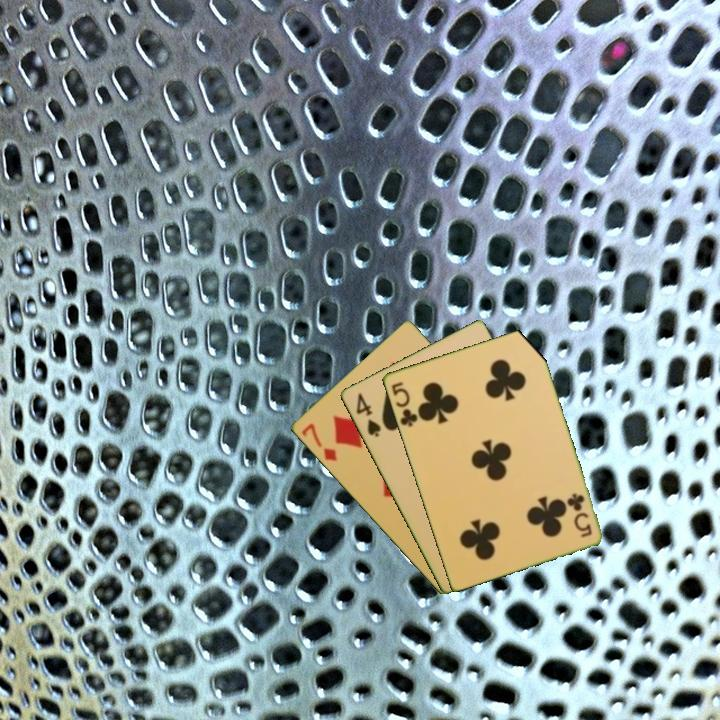4s: (352, 389, 384, 440)
5c: (388, 378, 420, 429), (564, 489, 595, 540)
7d: (297, 419, 340, 464)
